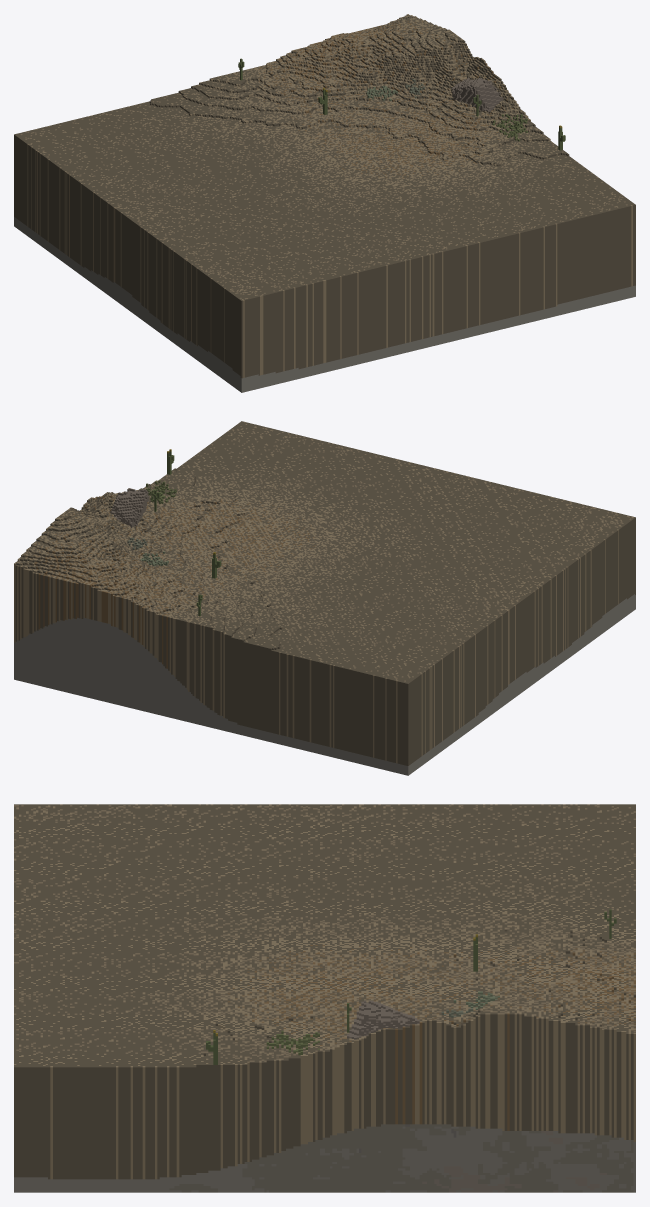
Rendered from Combined Desert(2)-3-tile 4.obj.
3 renders of one model, top to bottom at view 1: azimuth 30°, elevation 25°; view 2: azimuth 150°, elevation 25°; view 3: azimuth 270°, elevation 25°, orthographic. The views are drawn at different scales.
Visible parts, largest first — view 1: tile 4; view 2: tile 4; view 3: tile 4.
Boxes of the visible parts, left/top/right/bottom form: tile 4: left=14, top=14, right=635, bottom=392; tile 4: left=14, top=421, right=635, bottom=775; tile 4: left=14, top=804, right=635, bottom=1192.
Bounding box in the file's own units: 25.6 × 8.1 × 25.6.
1 material, 1 textured.
